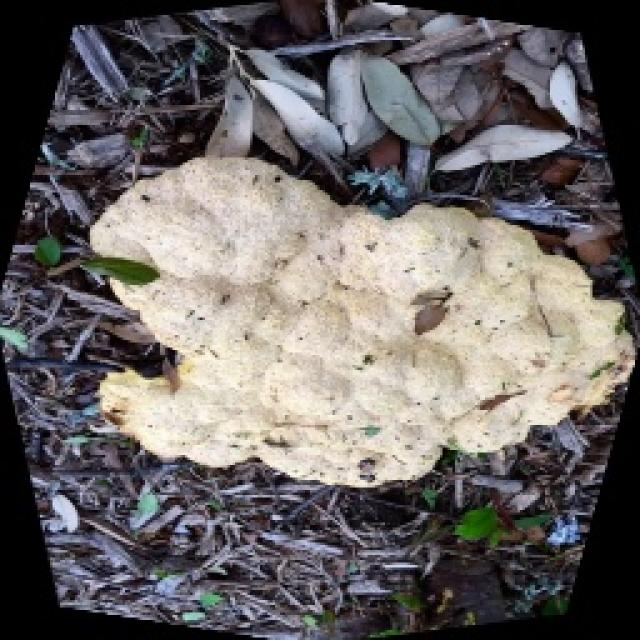Dog_vomit_slime_mold: (67, 145, 633, 495)
